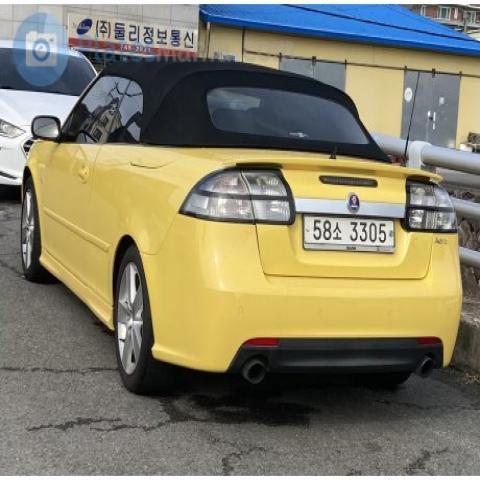LP: (294, 207, 403, 261)
